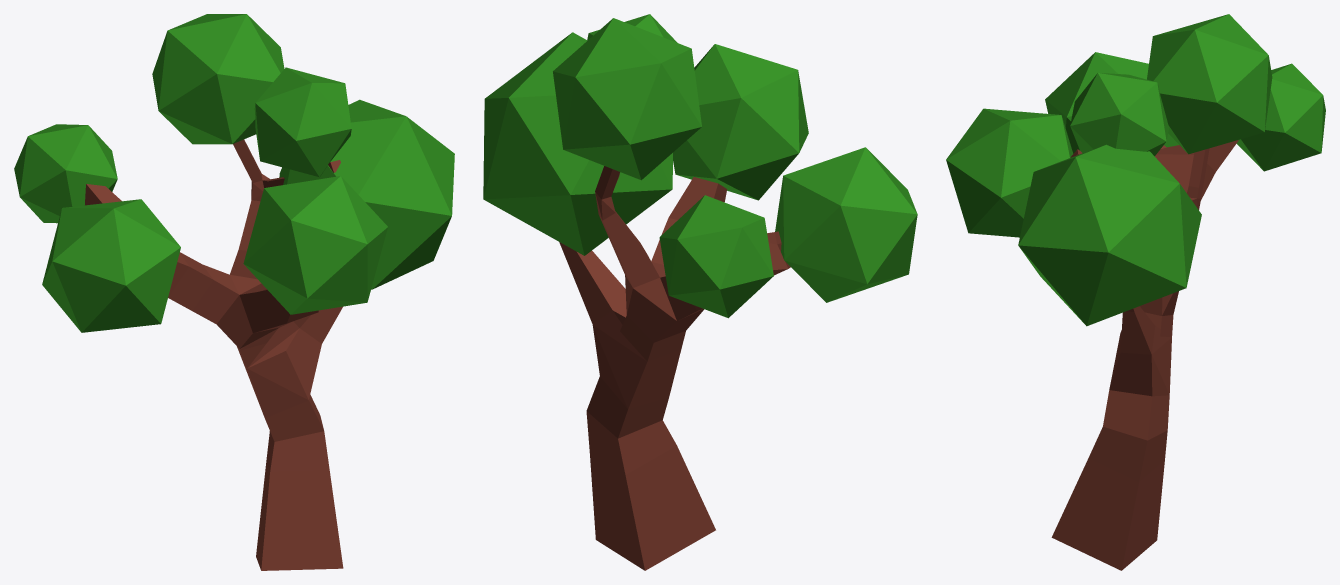
The model's file is tree.glb.
The picture shows the model from 3 angles, left to right: view 1: azimuth 30°, elevation 25°; view 2: azimuth 150°, elevation 25°; view 3: azimuth 270°, elevation 25°; orthographic projection. The views are drawn at different scales.
Parts seen in each view (by area): view 1: Cube, Icosphere.004, Icosphere.002, Icosphere.003, Icosphere, Icosphere.005, Icosphere.001; view 2: Cube, Icosphere.003, Icosphere, Icosphere.002, Icosphere.004, Icosphere.001, Icosphere.005; view 3: Icosphere.003, Cube, Icosphere, Icosphere.004, Icosphere.005, Icosphere.001, Icosphere.002.
Boxes of the visible parts, x1=… form: Cube: x1=85, y1=139, x2=343, y2=570; Icosphere.004: x1=243, y1=176, x2=387, y2=314; Icosphere.002: x1=42, y1=199, x2=180, y2=332; Icosphere.003: x1=279, y1=99, x2=454, y2=289; Icosphere: x1=152, y1=14, x2=284, y2=144; Icosphere.005: x1=254, y1=67, x2=351, y2=177; Icosphere.001: x1=14, y1=124, x2=117, y2=223; Cube: x1=559, y1=166, x2=790, y2=570; Icosphere.003: x1=483, y1=32, x2=672, y2=255; Icosphere: x1=553, y1=18, x2=701, y2=180; Icosphere.002: x1=775, y1=147, x2=917, y2=302; Icosphere.004: x1=673, y1=44, x2=808, y2=200; Icosphere.001: x1=659, y1=195, x2=773, y2=318; Icosphere.005: x1=587, y1=14, x2=677, y2=42; Icosphere.003: x1=1018, y1=144, x2=1201, y2=326; Cube: x1=1051, y1=140, x2=1238, y2=570; Icosphere: x1=1147, y1=14, x2=1272, y2=154; Icosphere.004: x1=946, y1=108, x2=1073, y2=237; Icosphere.005: x1=1070, y1=73, x2=1169, y2=156; Icosphere.001: x1=1236, y1=63, x2=1325, y2=171; Icosphere.002: x1=1045, y1=52, x2=1178, y2=153.
Size of the model in its own units: 6.02 by 7.52 by 5.02.
